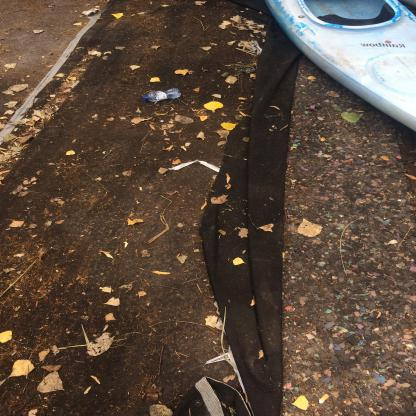plastik: (141, 88, 181, 102)
